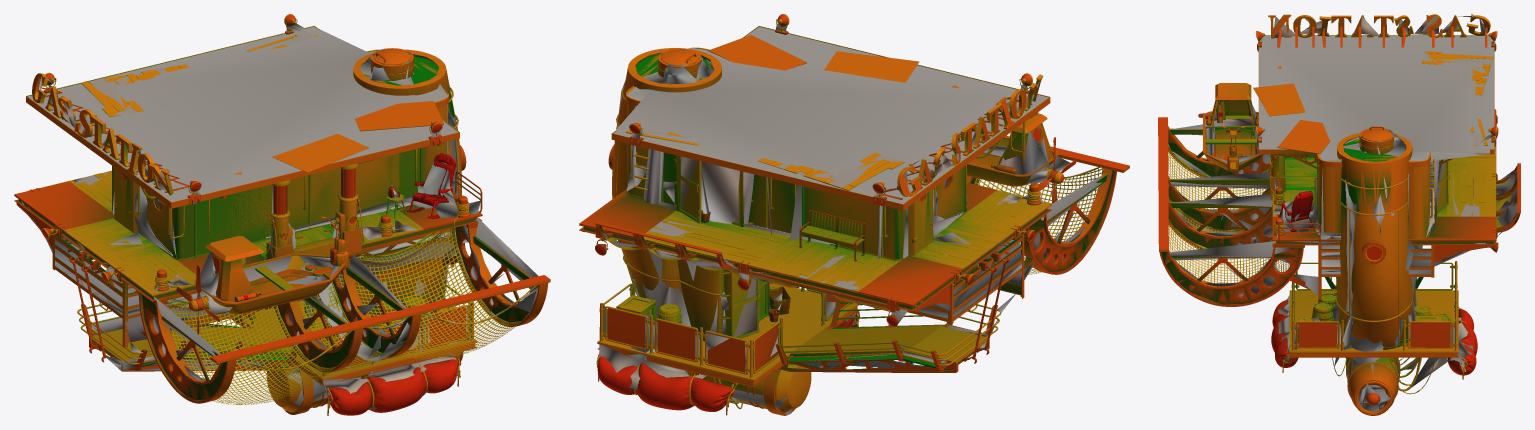
Rendered from KB3D_CSK_BldgSmGasStation_A.glb.
The picture shows the model from 3 angles, left to right: view 1: azimuth 30°, elevation 25°; view 2: azimuth 150°, elevation 25°; view 3: azimuth 270°, elevation 25°; orthographic projection. The views are drawn at different scales.
Parts seen in each view (by area): view 1: L0, L2, L1; view 2: L0, L2, L1; view 3: L0, L2, L1.
Boxes of the visible parts, x1=… form: L0: x1=16, y1=14, x2=550, y2=415; L2: x1=21, y1=23, x2=538, y2=410; L1: x1=14, y1=18, x2=550, y2=412; L0: x1=579, y1=14, x2=1129, y2=415; L2: x1=599, y1=23, x2=1104, y2=414; L1: x1=579, y1=20, x2=1129, y2=415; L0: x1=1158, y1=14, x2=1520, y2=415; L2: x1=1168, y1=15, x2=1519, y2=411; L1: x1=1158, y1=14, x2=1519, y2=414.
Size of the model in its own units: 11.27 by 9.45 by 11.35.
